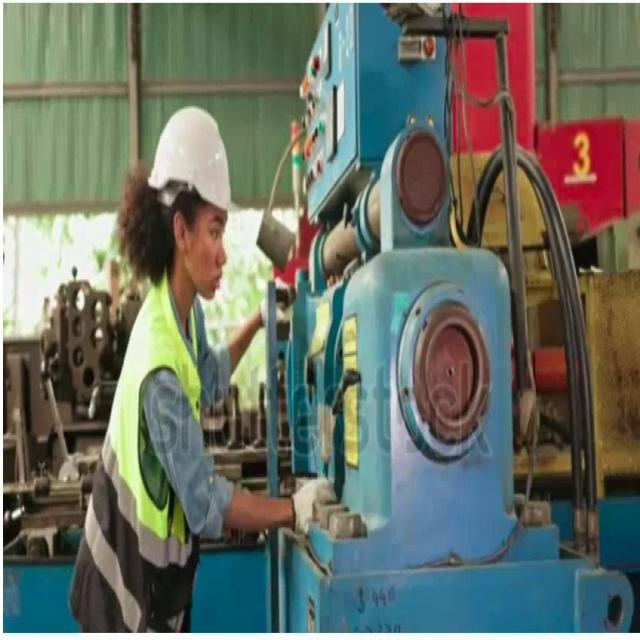gloved: (290, 476, 338, 535), (259, 276, 296, 327)
